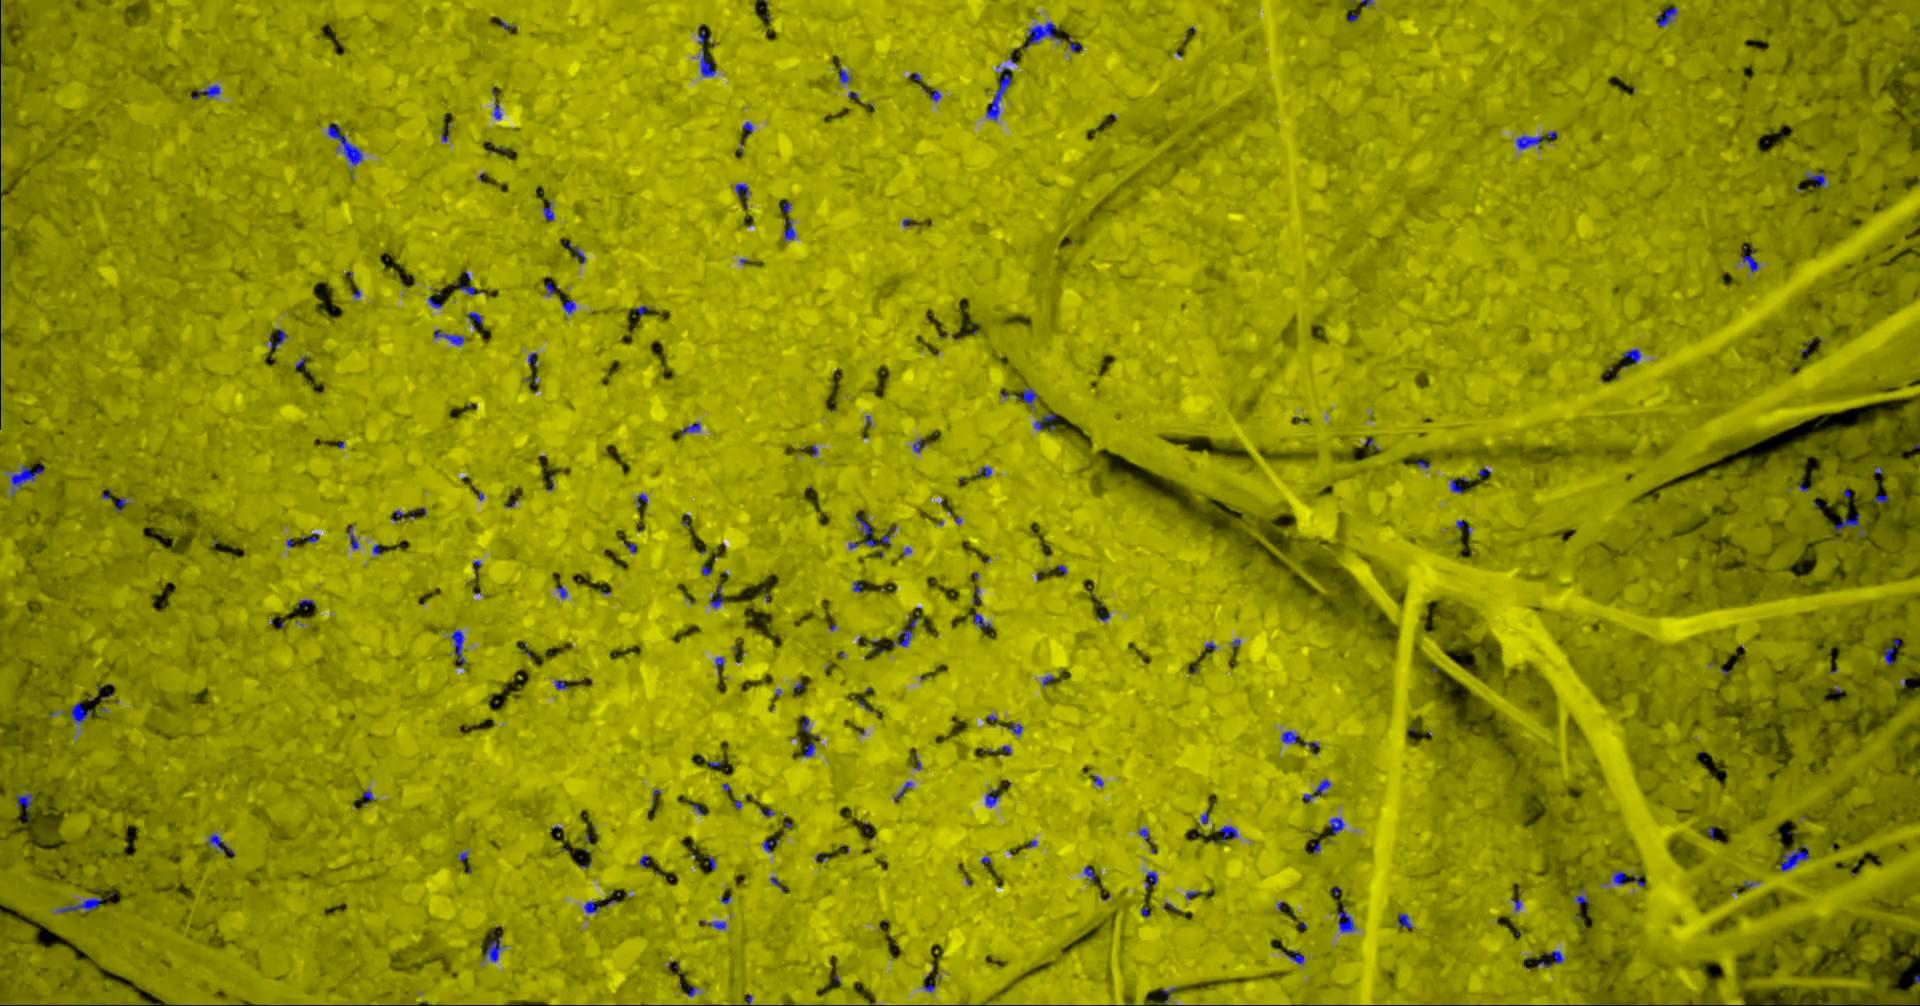ant: (328, 122, 362, 165), (985, 72, 1011, 119), (6, 464, 43, 494), (1779, 843, 1808, 871), (1027, 22, 1062, 44), (891, 617, 918, 647), (56, 897, 103, 913), (855, 514, 875, 546), (207, 833, 234, 857), (1302, 779, 1330, 800), (450, 629, 465, 667), (483, 934, 502, 962), (1655, 4, 1677, 27), (433, 329, 463, 345), (1834, 513, 1859, 532), (698, 47, 715, 76), (1741, 245, 1759, 272), (70, 701, 91, 723), (1337, 907, 1355, 932), (190, 84, 220, 99), (1016, 387, 1037, 406), (1032, 412, 1055, 429), (1883, 638, 1898, 664), (15, 793, 32, 817), (1515, 135, 1543, 149), (565, 243, 584, 263), (268, 328, 284, 349), (709, 586, 723, 608), (1622, 348, 1641, 365), (1804, 171, 1825, 187), (836, 61, 850, 83), (985, 788, 1001, 807), (1218, 826, 1237, 841), (1283, 950, 1303, 964), (1575, 887, 1590, 904), (783, 218, 795, 241), (973, 614, 990, 627), (1330, 817, 1343, 835), (348, 525, 358, 549), (681, 422, 700, 434), (1397, 913, 1412, 929), (458, 285, 483, 293), (734, 183, 748, 198), (469, 311, 483, 326), (912, 438, 927, 452), (113, 497, 127, 512), (1144, 871, 1157, 888), (1547, 950, 1563, 963), (542, 201, 552, 220), (1449, 478, 1462, 493), (1281, 730, 1297, 743), (1611, 871, 1627, 884), (583, 901, 599, 912), (563, 298, 575, 312), (762, 840, 777, 851), (977, 466, 990, 478), (803, 742, 814, 756), (1010, 723, 1022, 734), (554, 680, 569, 688)
